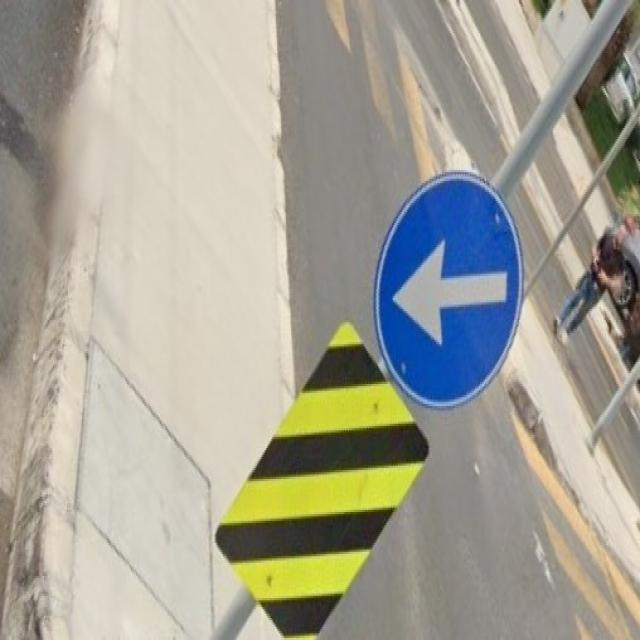Turn Left: (363, 175, 523, 414)
